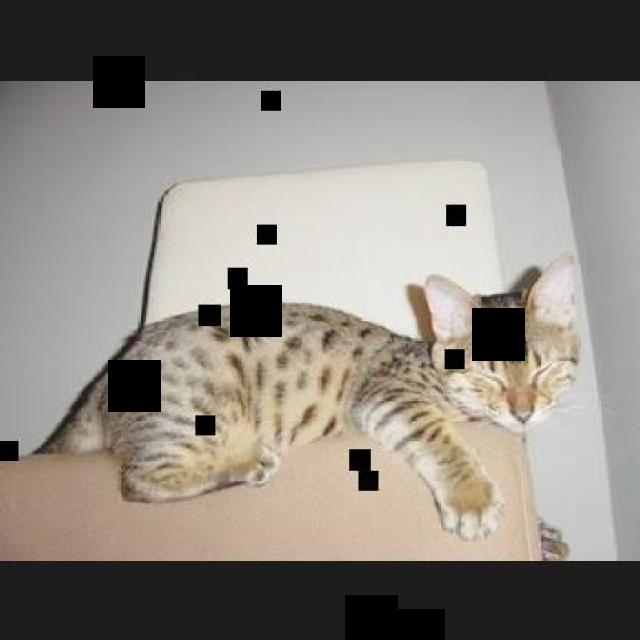unauthorized: (25, 249, 580, 548)
